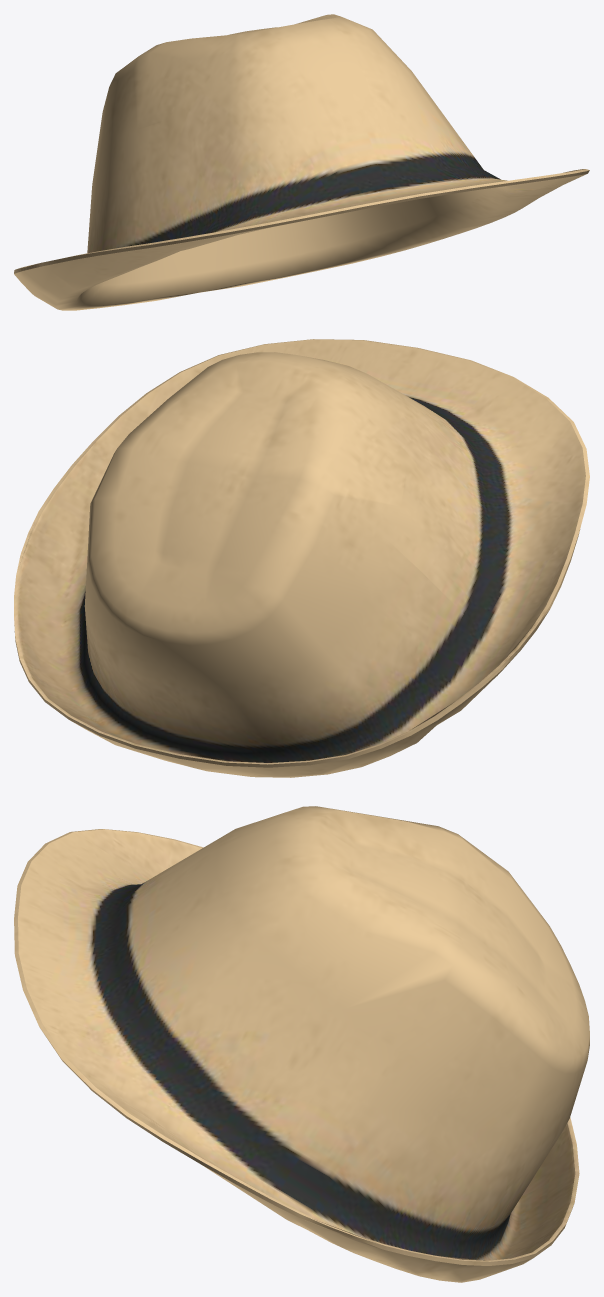
3 renders of one model, top to bottom at view 1: azimuth 30°, elevation 25°; view 2: azimuth 150°, elevation 25°; view 3: azimuth 270°, elevation 25°, orthographic. The views are drawn at different scales.
Visible parts, largest first — view 1: Hat3; view 2: Hat3; view 3: Hat3.
Boxes of the visible parts, x1,y1,x2,y2 form: Hat3: (14,14,589,310); Hat3: (14,339,589,777); Hat3: (14,806,589,1282).
Bounding box in the file's own units: 82.02 × 51.78 × 69.18.
Materials: 1 (1 with a texture image).
